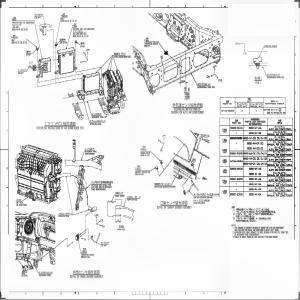PartNumber: (221, 109, 234, 113), (230, 126, 243, 130), (229, 136, 242, 140), (230, 159, 243, 163), (230, 167, 243, 171), (230, 177, 243, 181), (230, 193, 243, 196)
